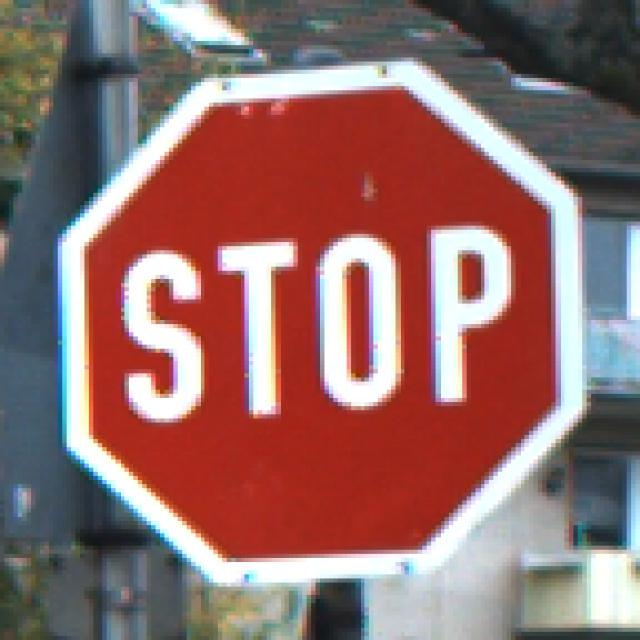STOP: (54, 59, 588, 588)
